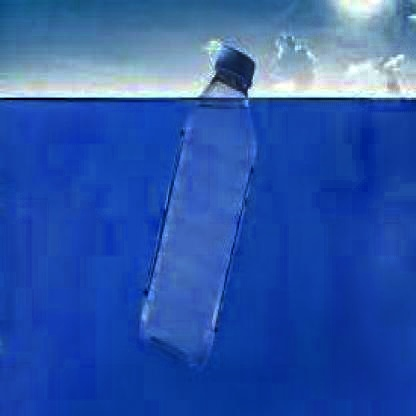pbottle: (128, 43, 264, 366)
